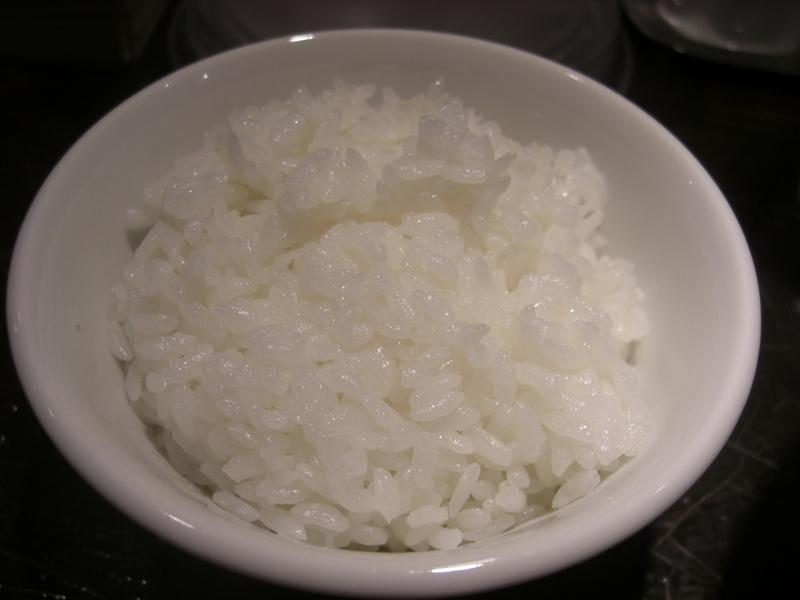rice: (107, 81, 660, 552)
